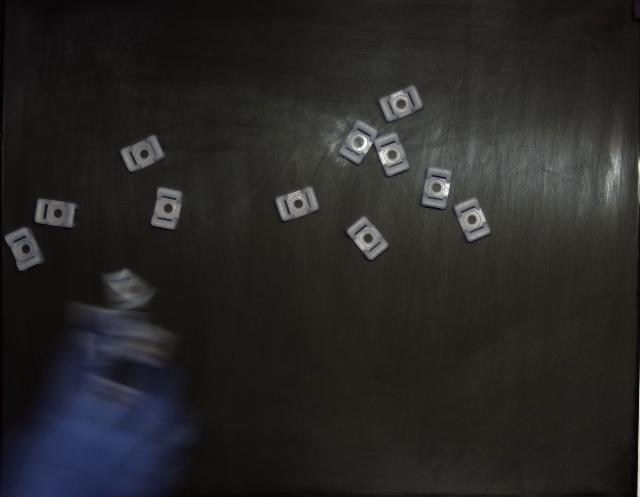first_side: (346, 216, 389, 261), (339, 120, 378, 165), (5, 228, 45, 271), (120, 135, 165, 172), (374, 132, 410, 178), (379, 85, 422, 122), (454, 198, 490, 242), (275, 186, 320, 221), (35, 199, 79, 229), (151, 188, 182, 230), (421, 168, 452, 209)
